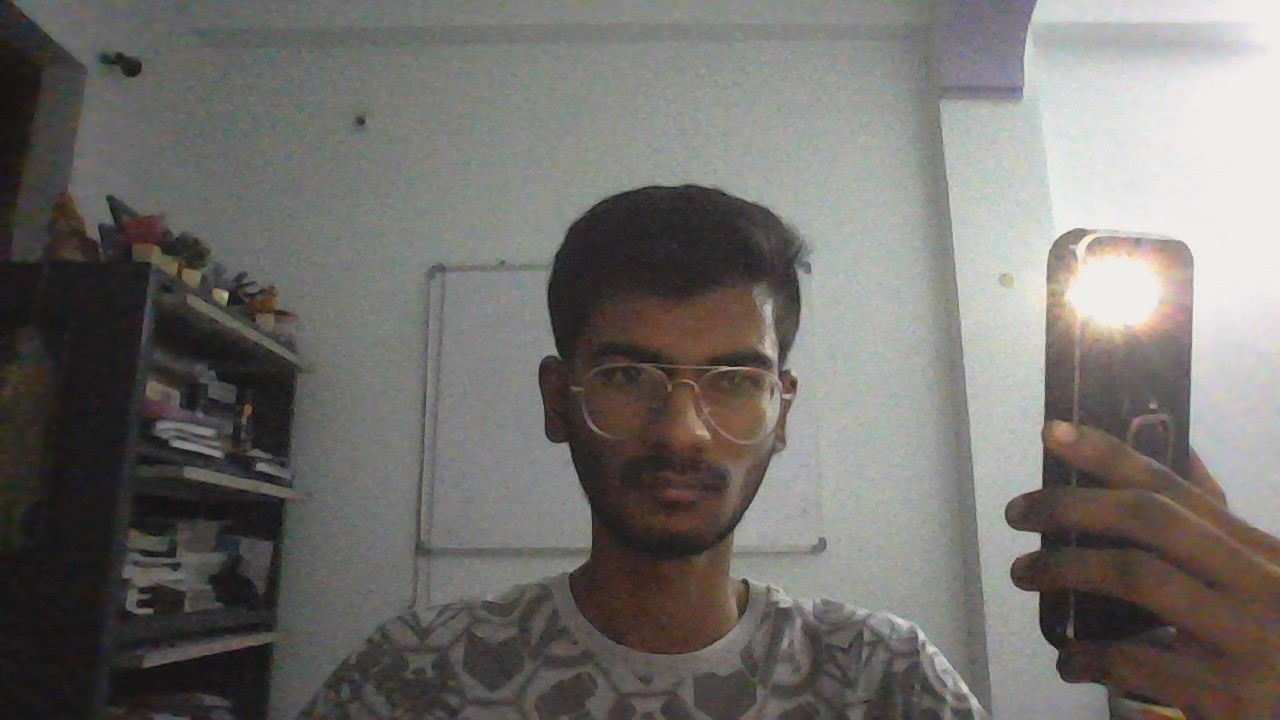Glare: (1059, 252, 1166, 336)
